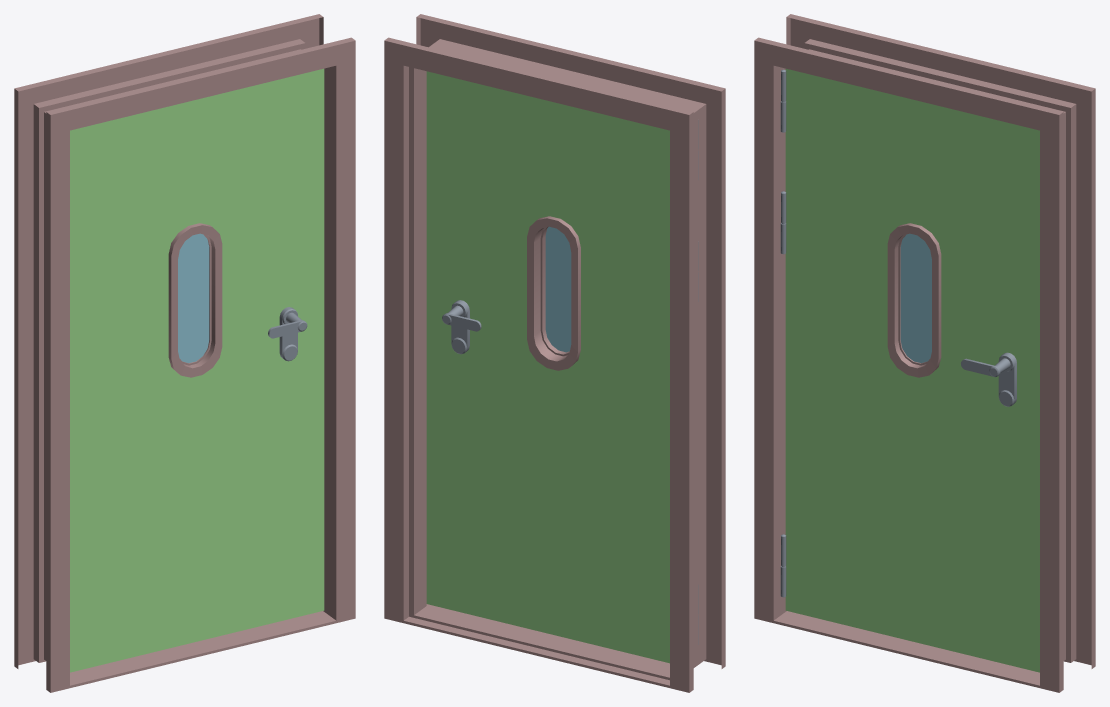
File: Plane_200X200_Door_Socet.fbx
The picture shows the model from 3 angles, left to right: view 1: azimuth 30°, elevation 25°; view 2: azimuth 150°, elevation 25°; view 3: azimuth 330°, elevation 25°; orthographic projection.
Visible parts, largest first — view 1: Door, Frame; view 2: Door, Frame; view 3: Door, Frame.
Part boxes in pixels (box(x1,y1,x2,y2)): Door: box(70, 68, 324, 672); Frame: box(14, 14, 355, 692); Door: box(426, 71, 698, 663); Frame: box(384, 14, 725, 692); Door: box(781, 68, 1039, 672); Frame: box(754, 14, 1095, 692).
Size of the model in its own units: 126 by 228 by 30.63.
